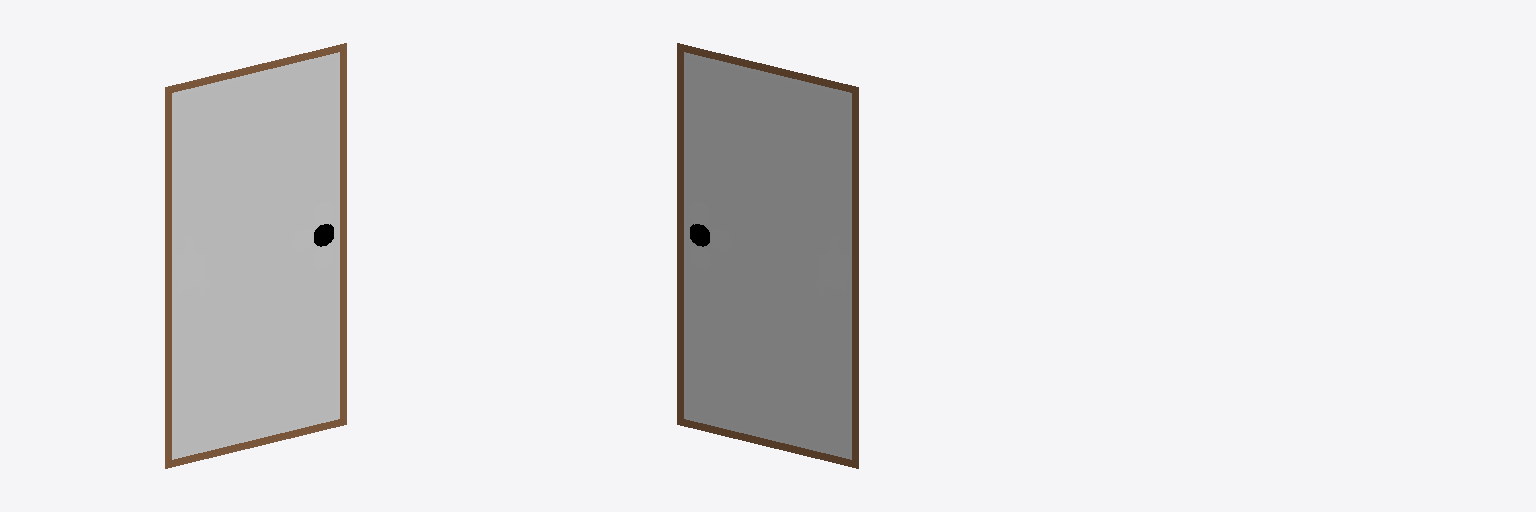
The picture shows the model from 3 angles: view 1: azimuth 30°, elevation 25°; view 2: azimuth 150°, elevation 25°; view 3: azimuth 270°, elevation 25°; orthographic projection.
Parts seen in each view (by area): view 1: fusumaL; view 2: fusumaL; view 3: none.
Boxes of the visible parts, <box> form: fusumaL: <box>165,43,346,468</box>; fusumaL: <box>677,43,858,468</box>.
Size of the model in its own units: 2 by 4 by 0.
Materials: 1 (1 with a texture image).